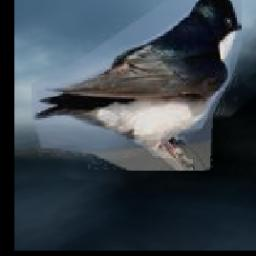Swallow: (32, 0, 242, 171)
